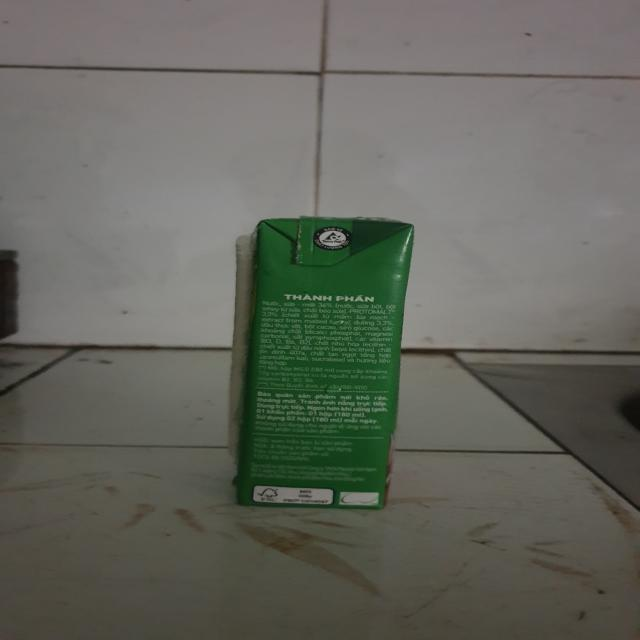Milo: (231, 214, 423, 514)
